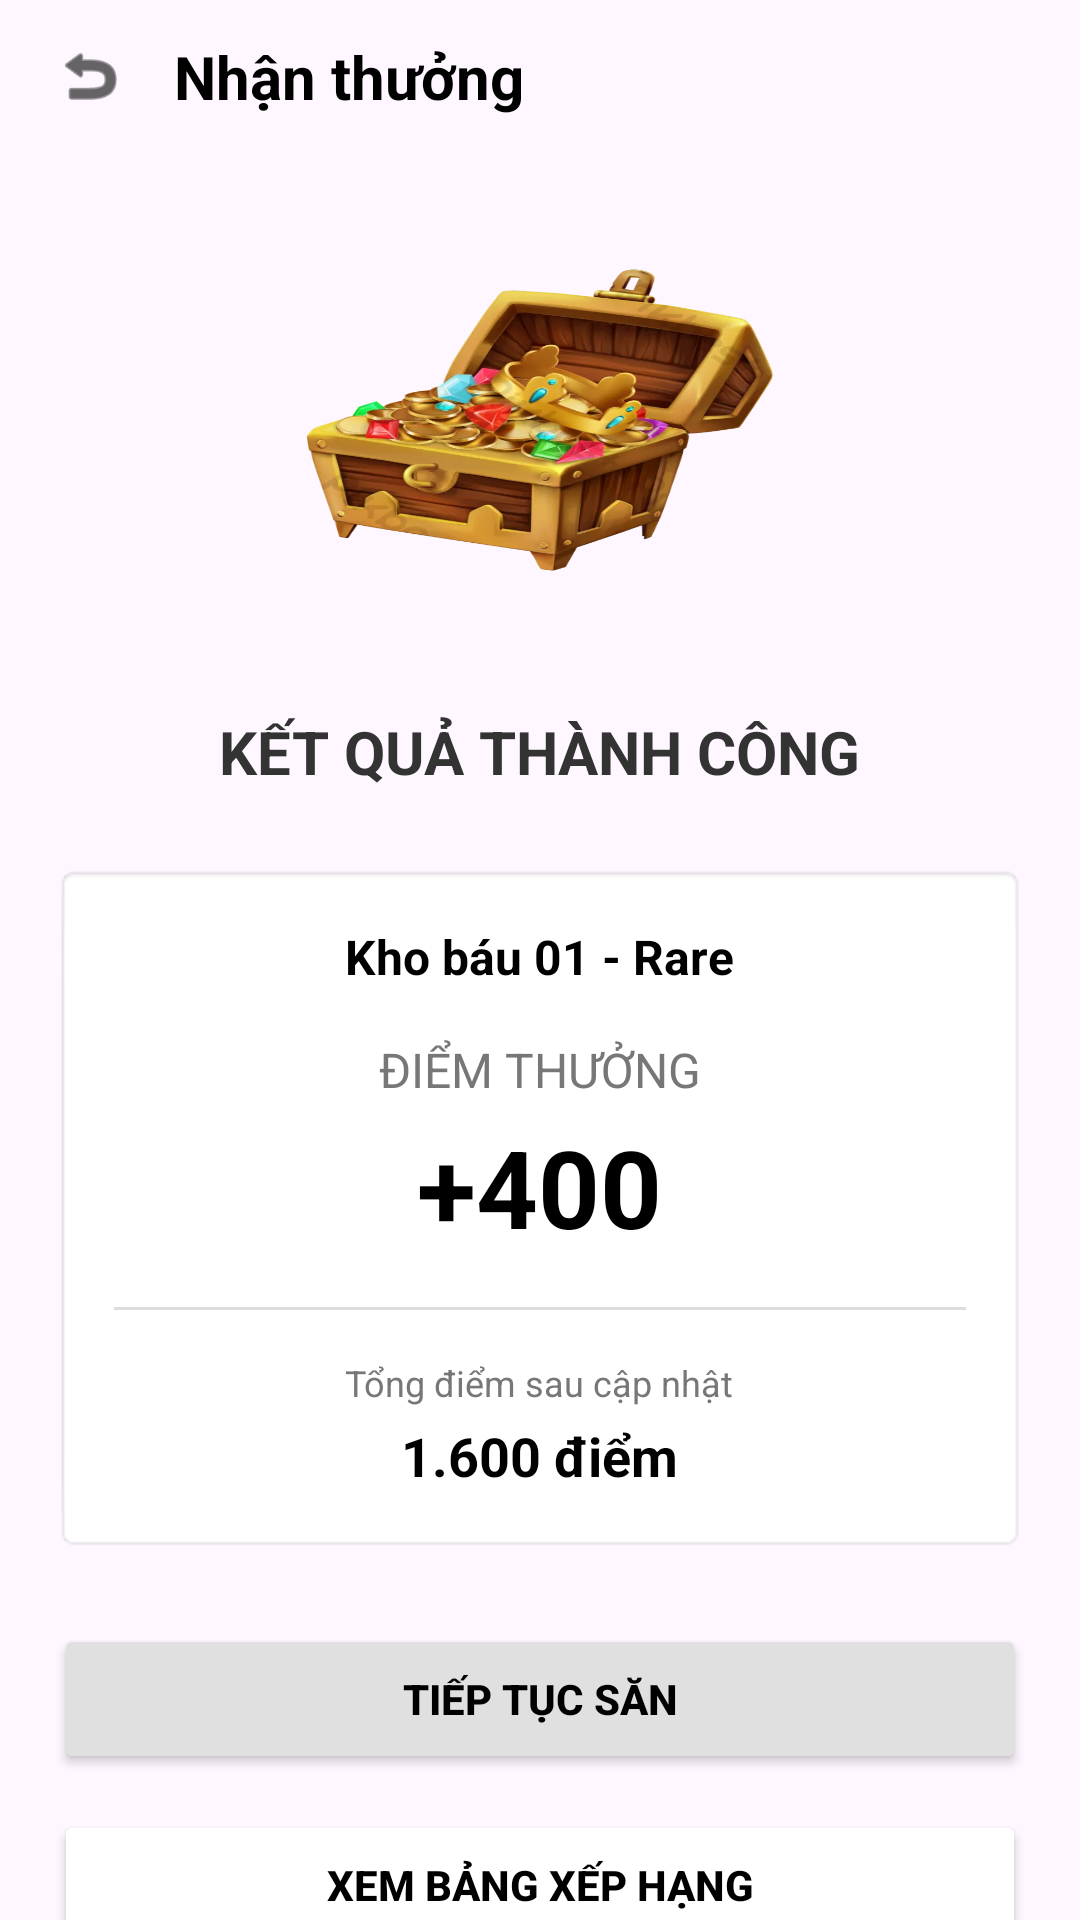

Point at icon controls on the screen. Image size 1080px×1920px, points as point (x, y).
Quay lại: point (91, 76)
